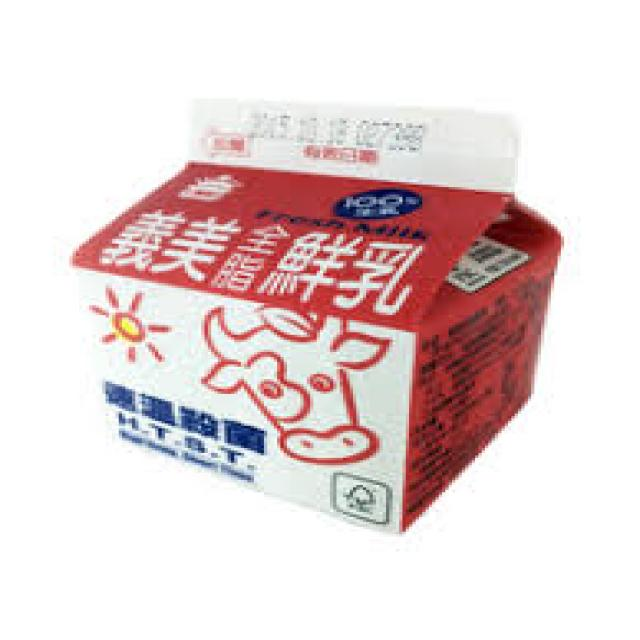non_white_jug: (61, 86, 572, 547)
